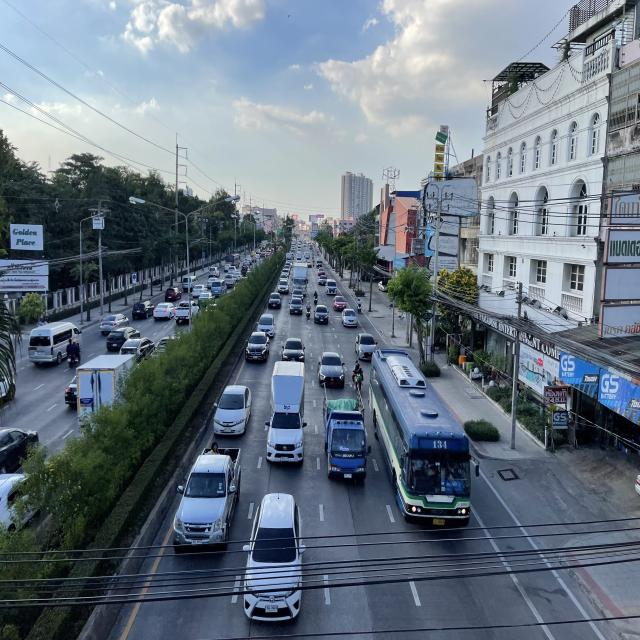bike: (352, 358, 364, 393), (305, 299, 312, 320), (355, 297, 362, 314), (312, 290, 319, 306)
bus: (369, 347, 480, 533)
car: (243, 491, 306, 624), (172, 440, 243, 555), (213, 382, 253, 438), (317, 352, 346, 388), (244, 331, 270, 363), (355, 332, 379, 361), (281, 337, 306, 364), (256, 312, 276, 337)
truck: (323, 381, 372, 484), (265, 359, 308, 467), (292, 262, 308, 297)
